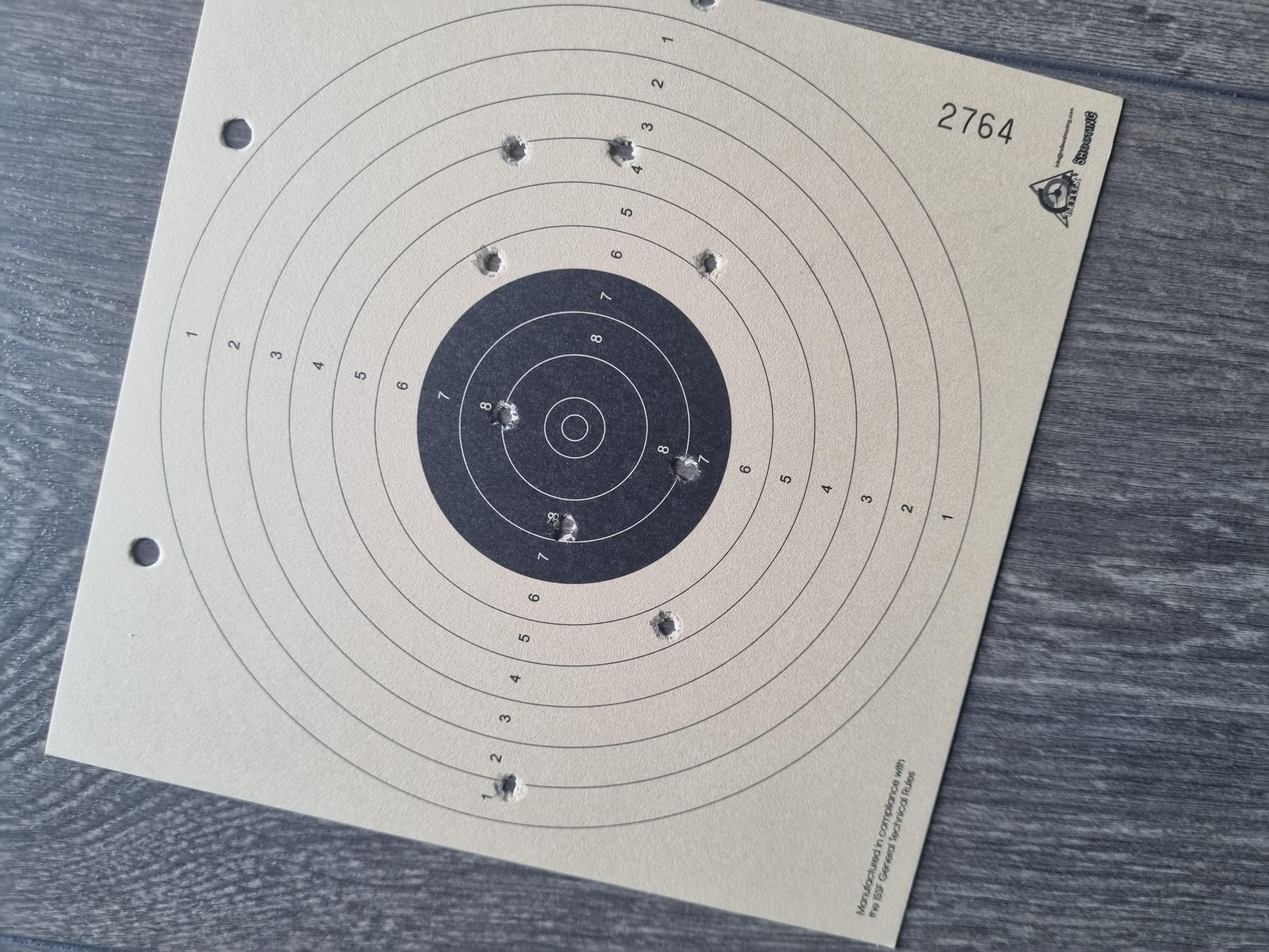hole: (624, 500, 663, 526), (694, 366, 736, 389), (415, 488, 455, 511), (544, 412, 585, 434), (1046, 455, 1087, 477), (198, 370, 239, 390), (1048, 375, 1089, 395), (899, 356, 940, 376), (897, 521, 933, 539), (1252, 517, 1269, 540)
